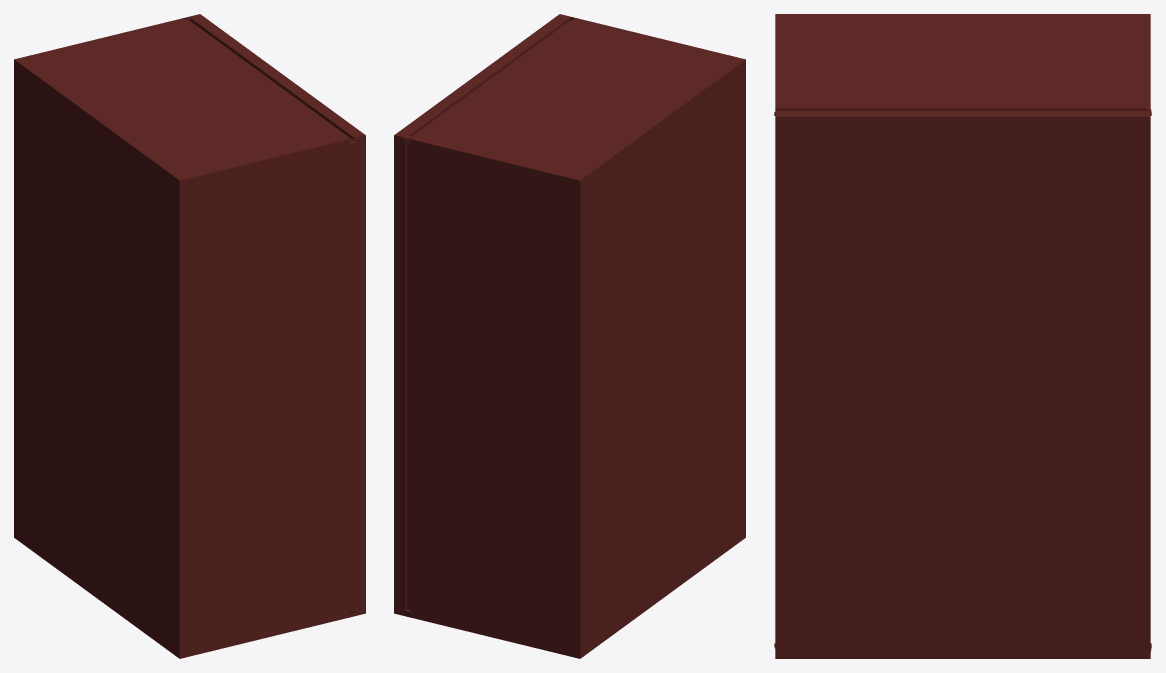
The model's file is BoxClose.fbx.
The picture shows the model from 3 angles, left to right: view 1: azimuth 30°, elevation 25°; view 2: azimuth 150°, elevation 25°; view 3: azimuth 270°, elevation 25°; orthographic projection. The views are drawn at different scales.
Parts seen in each view (by area): view 1: Cube.001; view 2: Cube.001; view 3: Cube.001.
Part boxes in pixels (bbox=[...]): Cube.001: bbox=[14, 14, 365, 658]; Cube.001: bbox=[394, 14, 745, 658]; Cube.001: bbox=[774, 14, 1151, 658].
Bounding box in the file's own units: 297 × 734 × 461.
